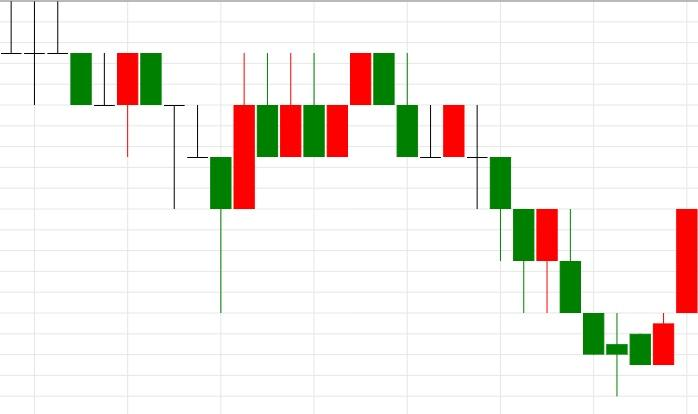bullish_engulfing_rise: (350, 53, 675, 396)
hammer_rise: (0, 0, 232, 313)
morning_star_rise: (349, 53, 466, 159)
